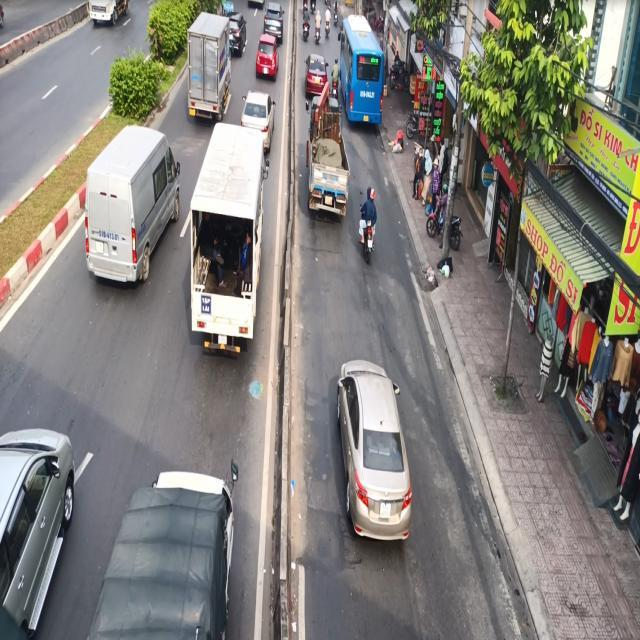bus: (336, 13, 386, 127)
car: (82, 124, 180, 287), (0, 427, 75, 639), (335, 359, 413, 542)
person: (358, 187, 377, 252)
truck: (86, 457, 259, 640), (187, 121, 266, 358), (180, 6, 235, 124), (305, 80, 350, 220)
